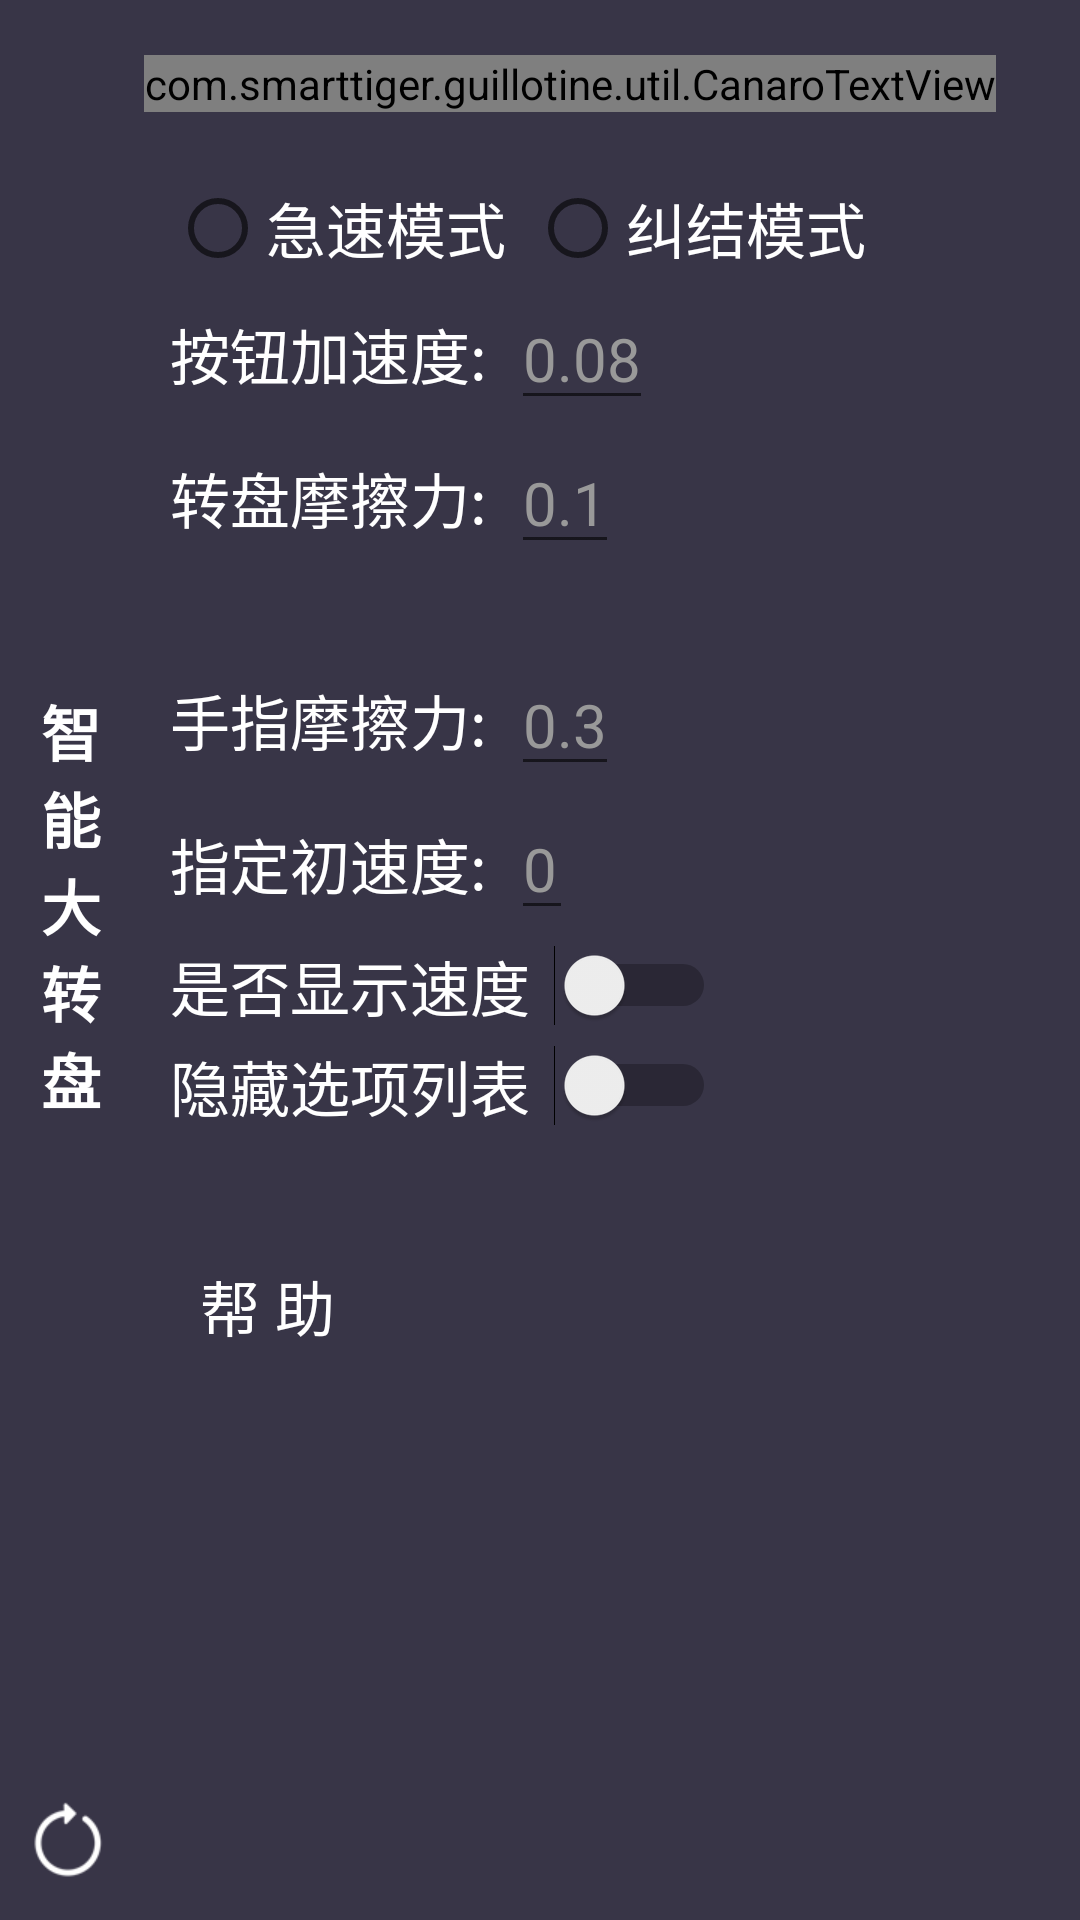

Named icons in this screenshot (1080px x 1920px) and their centers, [x,y]:
reload: [68,1840]
